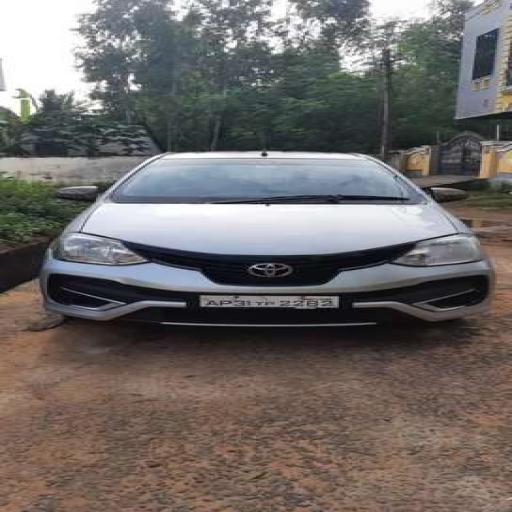license_plate`: (198, 294, 337, 307)
